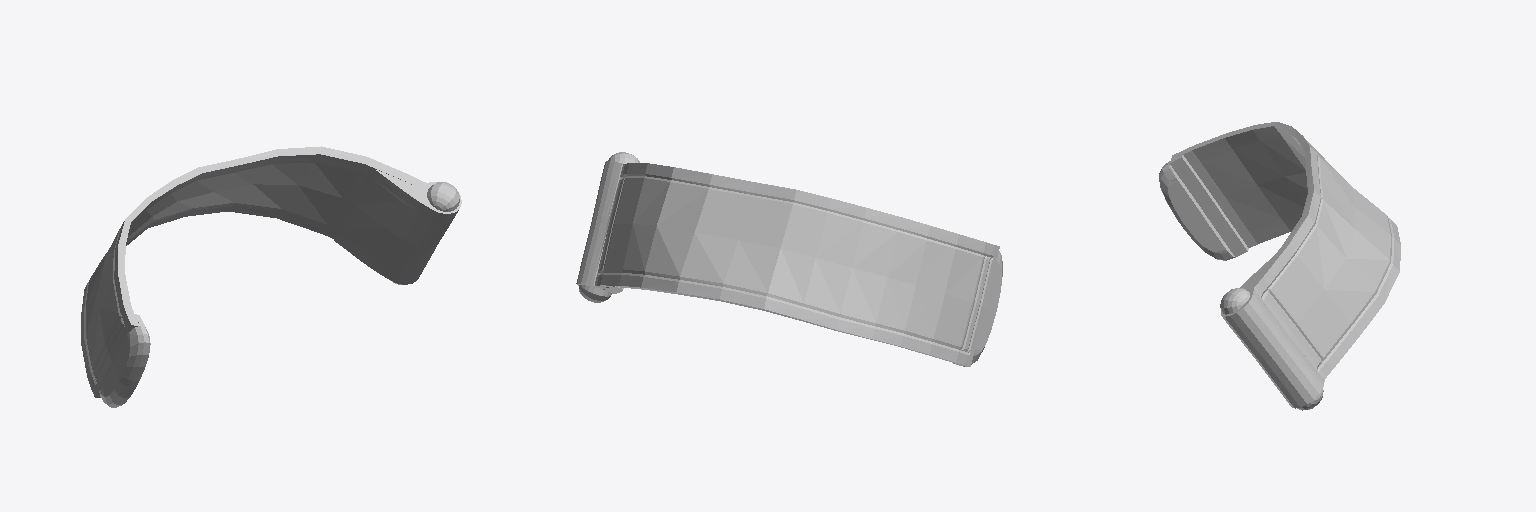
File: max-tab-left-top.obj
3 views of the same model, side by side, from view 1: azimuth 30°, elevation 25°; view 2: azimuth 150°, elevation 25°; view 3: azimuth 270°, elevation 25° (orthographic).
Visible parts, largest first — view 1: group16 polySurface31 polySurface1, group16 polySurface29 polySurface1, group16 polySurface30 polySurface1; view 2: group16 polySurface31 polySurface1, group16 polySurface29 polySurface1, group16 polySurface30 polySurface1; view 3: group16 polySurface31 polySurface1, group16 polySurface29 polySurface1, group16 polySurface30 polySurface1.
Boxes of the visible parts, <box> form: group16 polySurface31 polySurface1: <box>81,146,461,397</box>; group16 polySurface29 polySurface1: <box>99,314,150,407</box>; group16 polySurface30 polySurface1: <box>390,182,459,284</box>; group16 polySurface31 polySurface1: <box>576,161,999,366</box>; group16 polySurface29 polySurface1: <box>953,251,1002,366</box>; group16 polySurface30 polySurface1: <box>579,152,639,302</box>; group16 polySurface31 polySurface1: <box>1171,122,1400,408</box>; group16 polySurface29 polySurface1: <box>1159,155,1248,260</box>; group16 polySurface30 polySurface1: <box>1220,288,1323,410</box>.
Size of the model in its own units: 1.66 by 0.7663 by 0.9575.